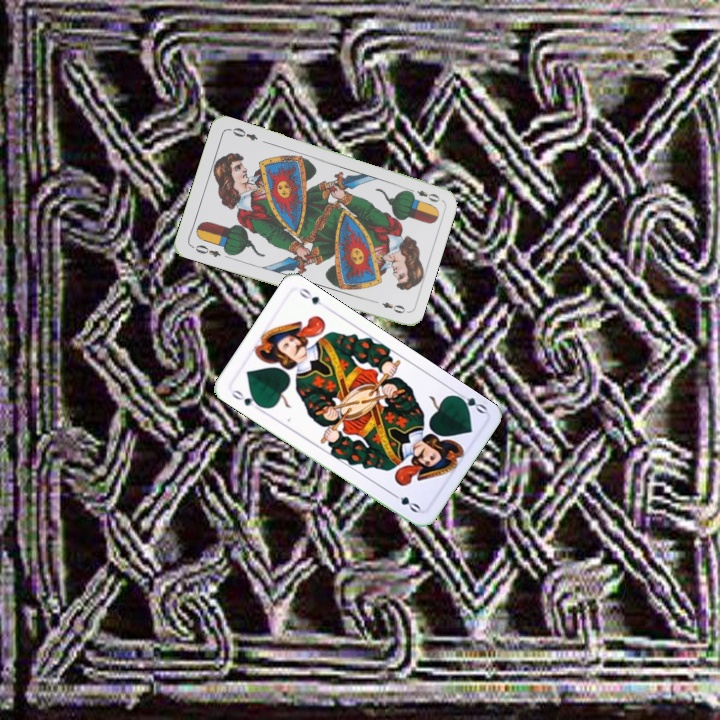EO: (403, 184, 443, 205), (188, 241, 223, 260)
GO: (450, 387, 489, 417), (227, 385, 264, 410)
